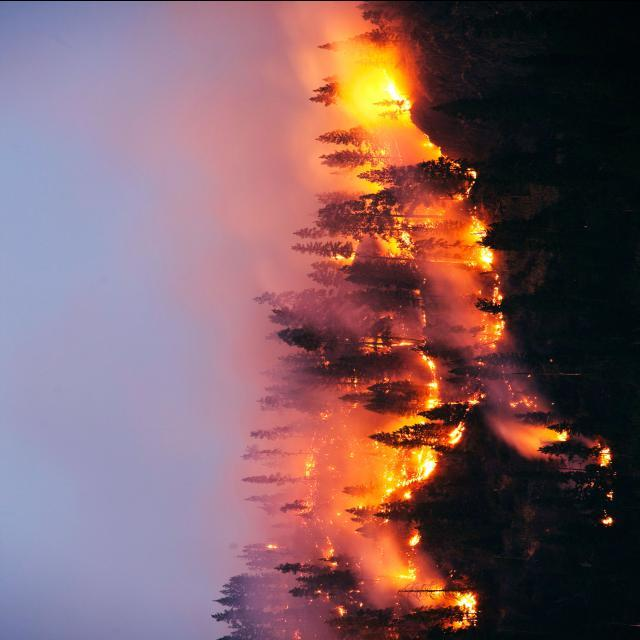Fire: (294, 340, 474, 610), (309, 53, 501, 267)
